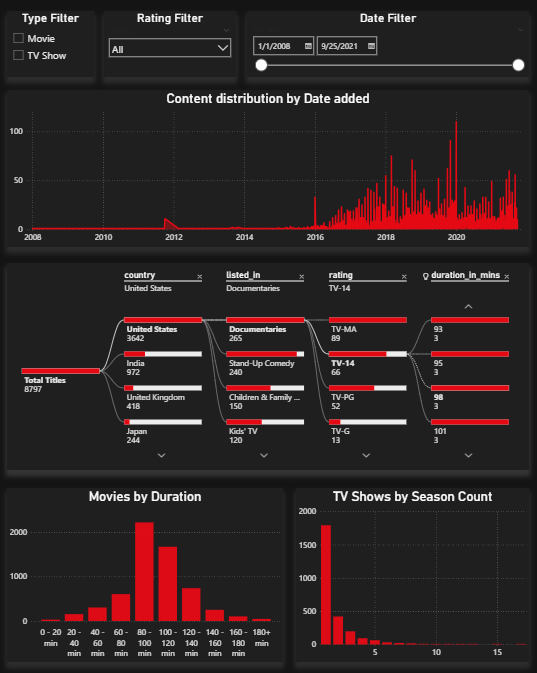

The dashboard page shown, as its layout file describes it:
{"tool":"powerbi","page":{"name":"Page 2","canvas":[1080,1350],"ordinal":1},"visuals":[{"type":"slicer","title":"Type Filter","fields":{"Values":["netflix_titles.type"]},"box":[18,24,174,132],"z":0},{"type":"slicer","title":"Rating Filter","fields":{"Values":["netflix_titles.rating"]},"box":[212,24,264,132],"z":1000},{"type":"slicer","title":"Date Filter","fields":{"Values":["netflix_titles.date_added"]},"box":[498,24,564,132],"z":2000},{"type":"columnChart","title":"Movies by Duration","fields":{"Y":["All_Measures.Total Movies"],"Category":["netflix_titles.Duration Bracket"]},"box":[18,978,552,348],"z":3000},{"type":"columnChart","title":"TV Shows by Season Count","fields":{"Y":["All_Measures.Total TV Shows"],"Category":["netflix_titles.season_count"]},"box":[596,978,466,348],"z":4000},{"type":"areaChart","title":"Content distribution by Date added","fields":{"Category":["netflix_titles.date_added"],"Y":["All_Measures.Total Titles"]},"box":[18,182,1044,290],"z":5000},{"type":"decompositionTreeVisual","fields":{"Analyze":["All_Measures.Total Titles"],"ExplainBy":["netflix_titles.country","netflix_titles.listed_in","netflix_titles.rating","netflix_titles.duration_in_mins"]},"box":[18,512,1044,414],"z":6000}]}

Visuals, with their boxes in screenshot pixels (x1, y1, x2, y2), scaled from the page's 1080x1350 canvas onto the 537x673 screenshot:
"Type Filter" slicer: locate(9, 12, 95, 78)
"Rating Filter" slicer: locate(105, 12, 237, 78)
"Date Filter" slicer: locate(248, 12, 528, 78)
"Movies by Duration" columnChart: locate(9, 488, 283, 661)
"TV Shows by Season Count" columnChart: locate(296, 488, 528, 661)
"Content distribution by Date added" areaChart: locate(9, 91, 528, 235)
decompositionTreeVisual - All_Measures.Total Titles x netflix_titles.country: locate(9, 255, 528, 462)
